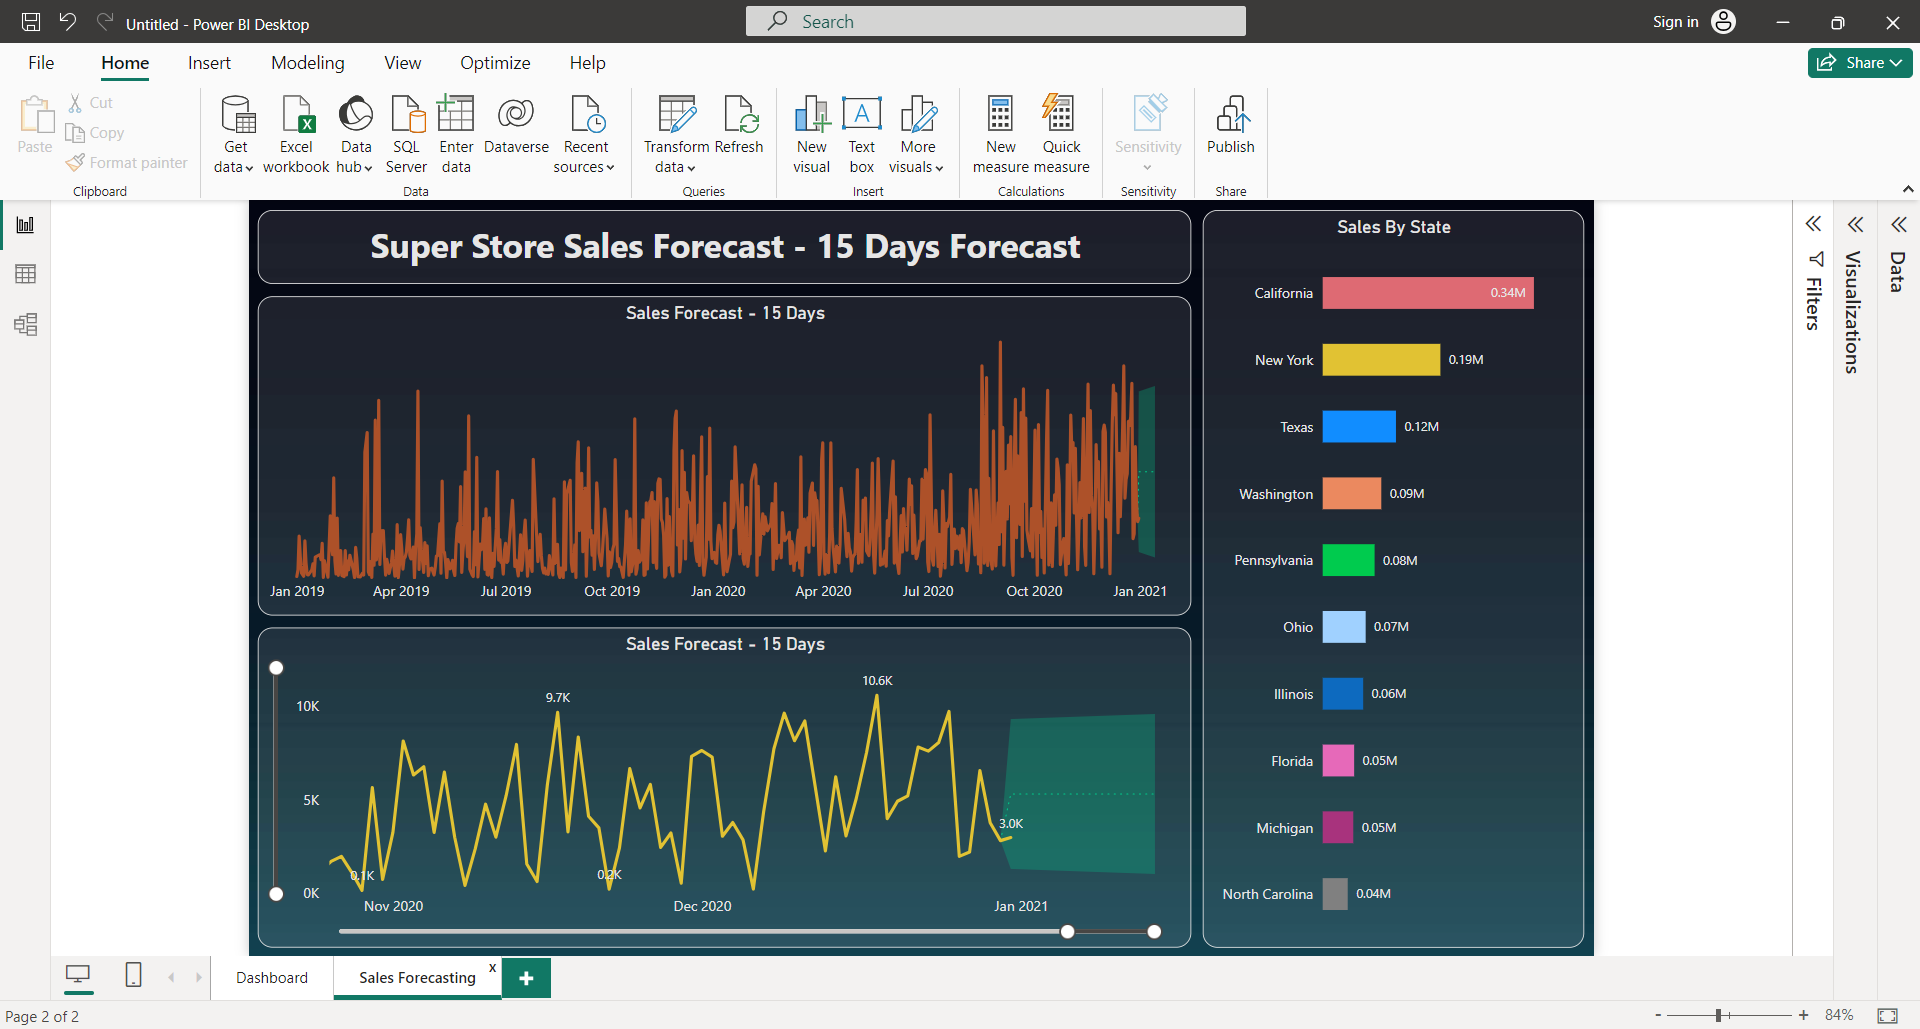

Layout of this report page (visuals, bound fields, positions):
{"tool":"powerbi","page":{"name":"Sales Forecasting","canvas":[1280,720],"ordinal":1},"visuals":[{"type":"lineChart","title":"Sales Forecast - 15 Days","fields":{"Y":["Sum(SuperStore_Sales_Dataset.Sales)"],"Category":["SuperStore_Sales_Dataset.Order Date"]},"box":[8.3,91.6,889,304],"z":0},{"type":"lineChart","title":"Sales Forecast - 15 Days","fields":{"Y":["Sum(SuperStore_Sales_Dataset.Sales)"],"Category":["SuperStore_Sales_Dataset.Order Date"]},"box":[8.3,407,889,304.7],"z":1000},{"type":"textbox","box":[8.3,9.5,889,70.2],"z":1001},{"type":"barChart","title":"Sales By State","fields":{"Category":["SuperStore_Sales_Dataset.State"],"Y":["Sum(SuperStore_Sales_Dataset.Sales)"]},"box":[908,9.5,363,702.1],"z":1002}]}

Visuals, with their boxes on the page's 1280x720 design canvas (x1, y1, x2, y2). These are canvas units, not pixel positions in the 1920x1029 screenshot, which may show the page scaled, cropped or inside an application window:
"Sales Forecast - 15 Days" lineChart: x1=8 y1=92 x2=897 y2=396
"Sales Forecast - 15 Days" lineChart: x1=8 y1=407 x2=897 y2=712
textbox: x1=8 y1=10 x2=897 y2=80
"Sales By State" barChart: x1=908 y1=10 x2=1271 y2=712
